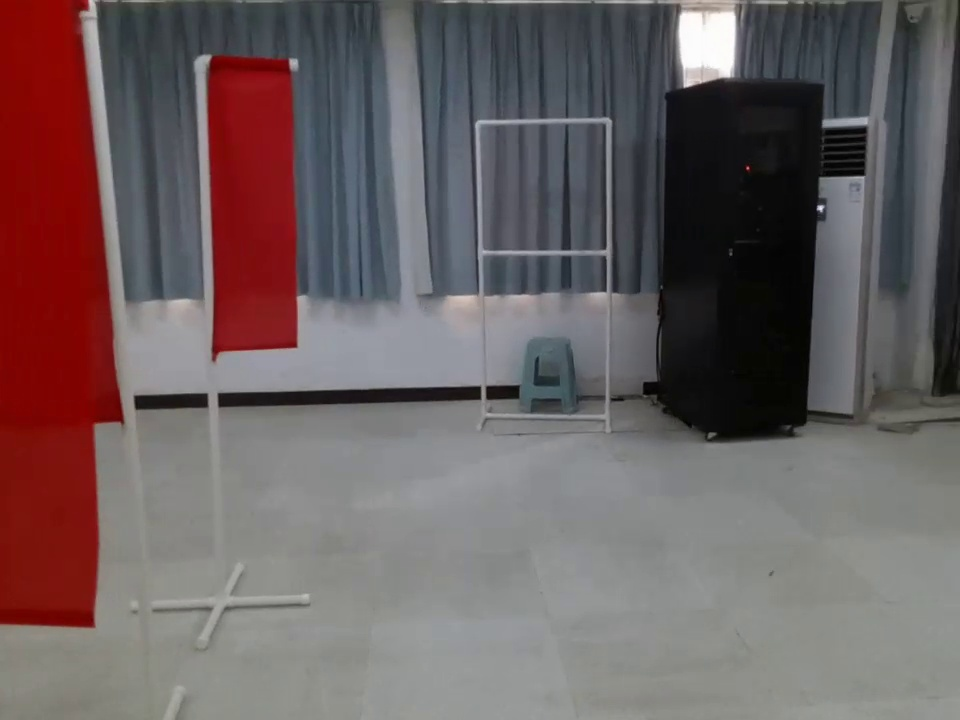qi: (189, 46, 316, 367)
